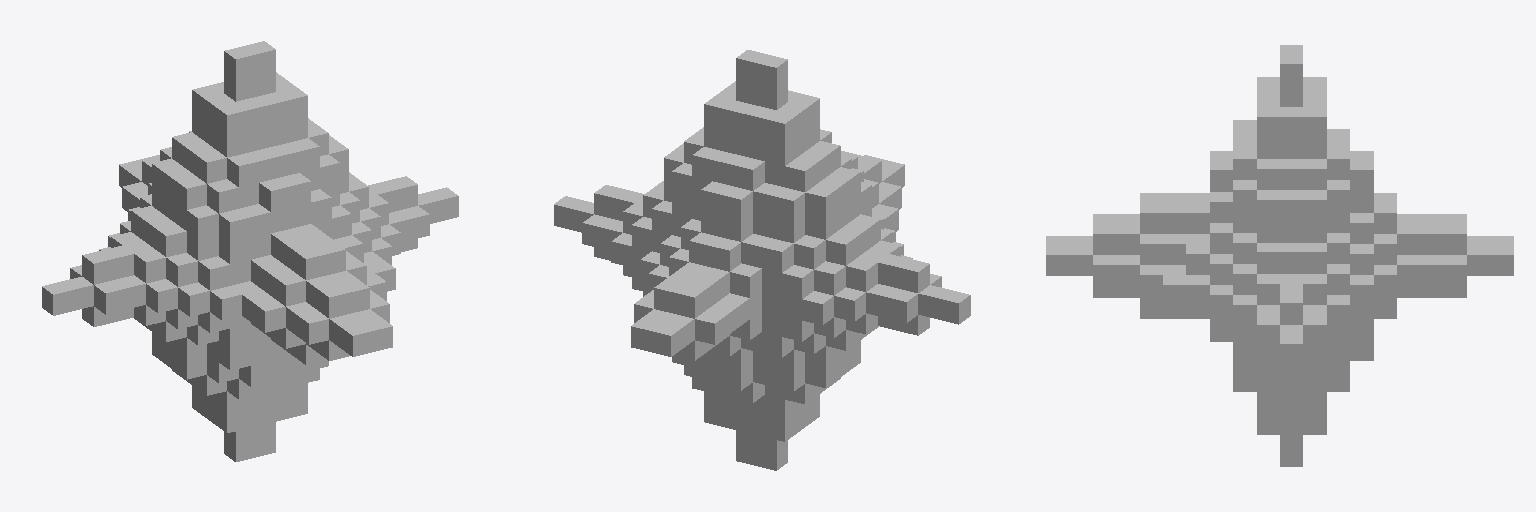
The model's file is star - cen.obj.
3 views of the same model, side by side, from view 1: azimuth 30°, elevation 25°; view 2: azimuth 150°, elevation 25°; view 3: azimuth 270°, elevation 25° (orthographic).
Visible parts, largest first — view 1: star; view 2: star; view 3: star.
Boxes of the visible parts, x1,y1,x2,y2 form: star: [42, 41, 458, 461]; star: [554, 50, 970, 470]; star: [1046, 45, 1513, 466].
Bounding box in the file's own units: 2 × 1.9 × 2.